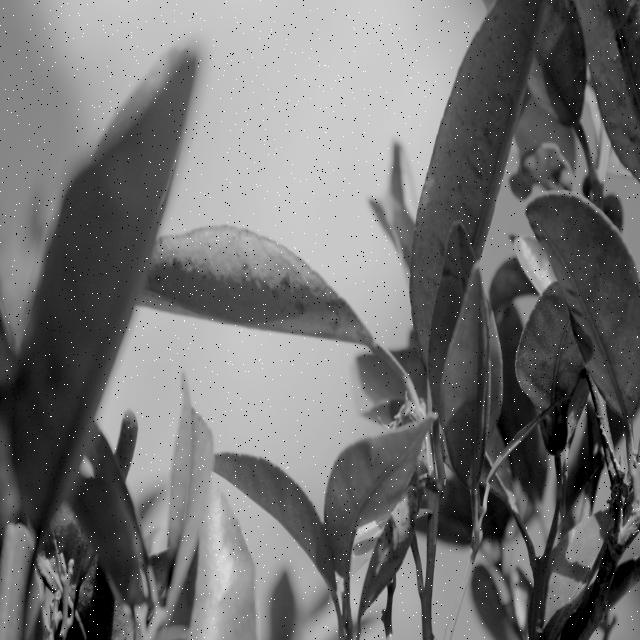melanose: (131, 214, 382, 361)
